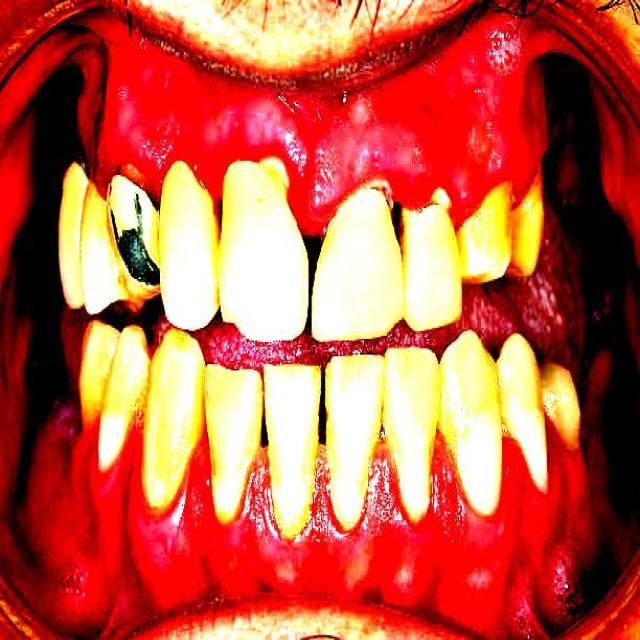caries: (363, 165, 402, 216)
